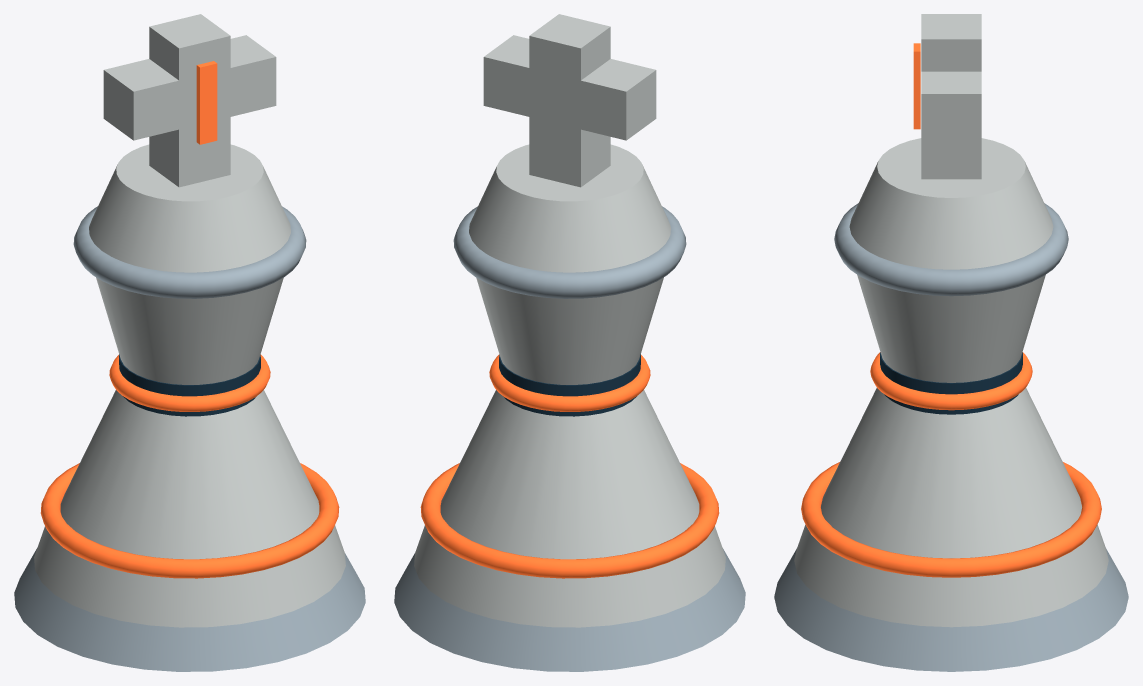
Rendered from king.glb.
3 renders of one model, left to right at view 1: azimuth 30°, elevation 25°; view 2: azimuth 150°, elevation 25°; view 3: azimuth 270°, elevation 25°, orthographic.
Parts seen in each view (by area): view 1: stem, body (×2), foot, mount, cross_vertical, cross_horizontal, power_collar, ring, power_neck, neck, power_cross; view 2: stem, body (×2), foot, mount, cross_vertical, cross_horizontal, power_collar, ring, power_neck, neck; view 3: stem, body (×2), foot, mount, power_collar, ring, cross_vertical, cross_horizontal, power_neck, neck, power_cross.
Part boxes in pixels (x1,y1,x2,y2): stem: (60, 390, 319, 559); body (×2): (89, 144, 290, 384); foot: (14, 548, 365, 671); mount: (34, 525, 345, 627); cross_vertical: (149, 14, 230, 187); cross_horizontal: (103, 35, 276, 140); power_collar: (40, 463, 339, 578); ring: (73, 206, 306, 298); power_neck: (109, 354, 270, 411); neck: (119, 354, 260, 416); power_cross: (196, 61, 217, 144); stem: (440, 390, 699, 559); body (×2): (469, 144, 670, 384); foot: (394, 548, 745, 671); mount: (414, 525, 725, 627); cross_vertical: (529, 14, 610, 187); cross_horizontal: (483, 35, 656, 140); power_collar: (420, 463, 719, 578); ring: (453, 206, 686, 298); power_neck: (489, 354, 650, 411); neck: (499, 354, 640, 416); stem: (821, 388, 1081, 558); body (×2): (849, 138, 1053, 382); foot: (774, 548, 1128, 671); mount: (794, 524, 1108, 627); power_collar: (801, 462, 1101, 577); ring: (834, 203, 1068, 296); cross_vertical: (921, 14, 981, 179); cross_horizontal: (921, 71, 981, 143); power_neck: (870, 352, 1032, 410); neck: (880, 352, 1022, 414); power_cross: (913, 43, 920, 129).
Bounding box in the file's own units: 0.62 × 1.1 × 0.62.
